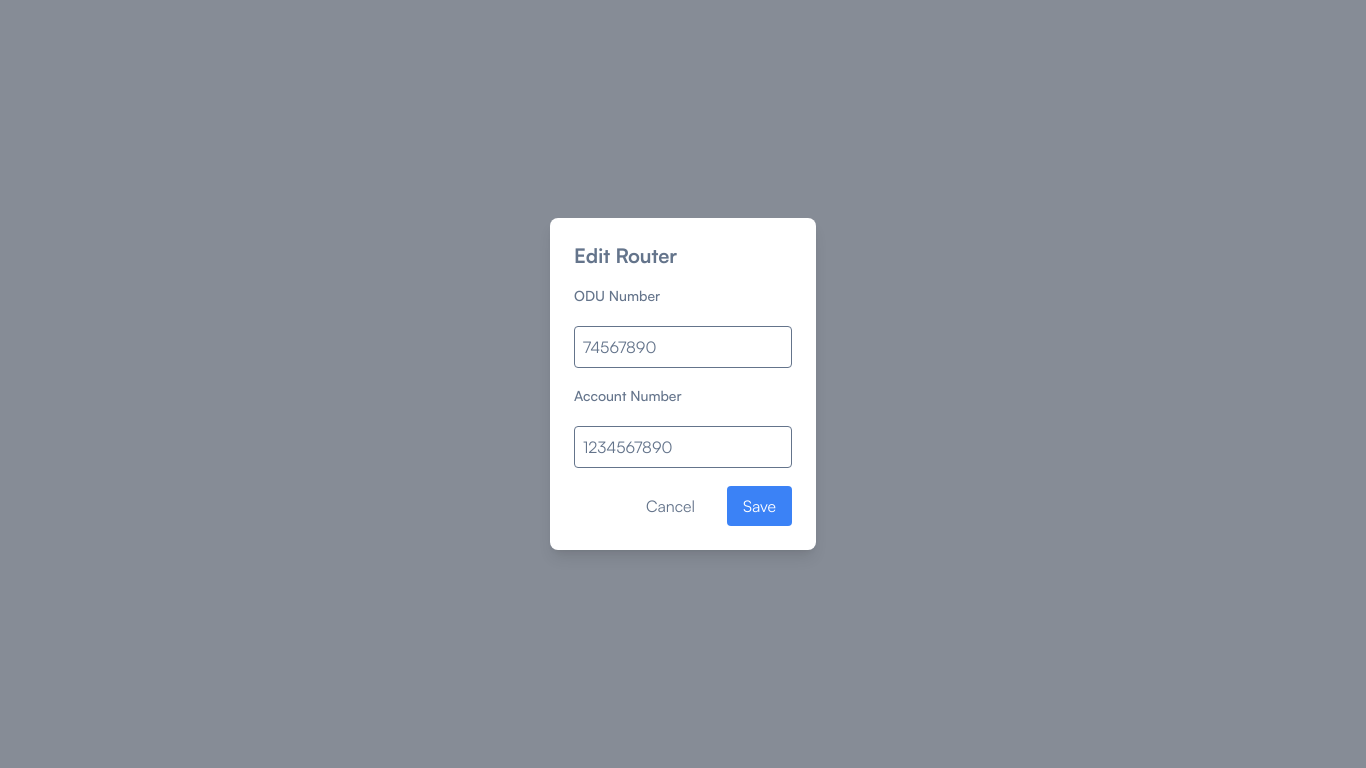
Scenario: EditRouterModal › displays validation errors for invalid data
Clear the field labelled "ODU Number" at point(683, 347), box top-left (574, 326), bottom-right (792, 368)
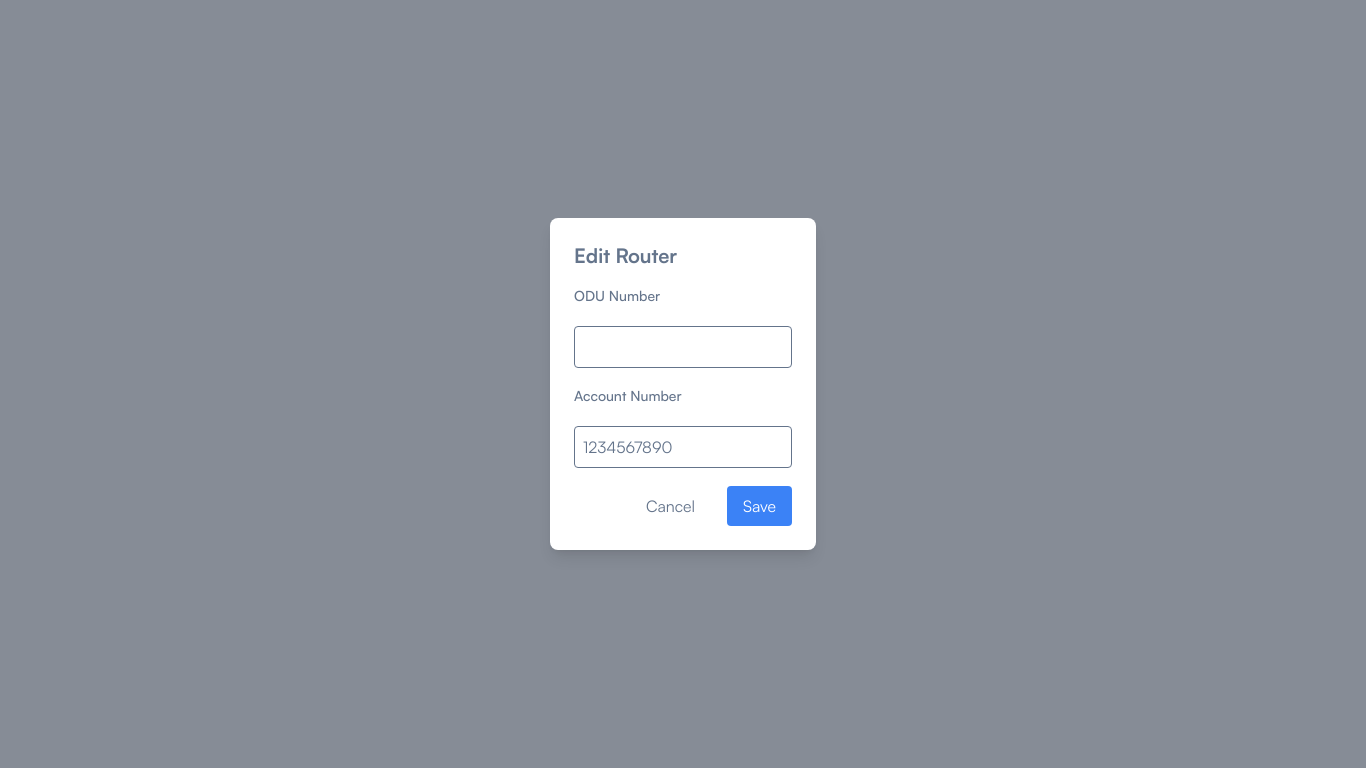
Clear the field labelled "Account Number" at point(683, 447), box top-left (574, 426), bottom-right (792, 468)
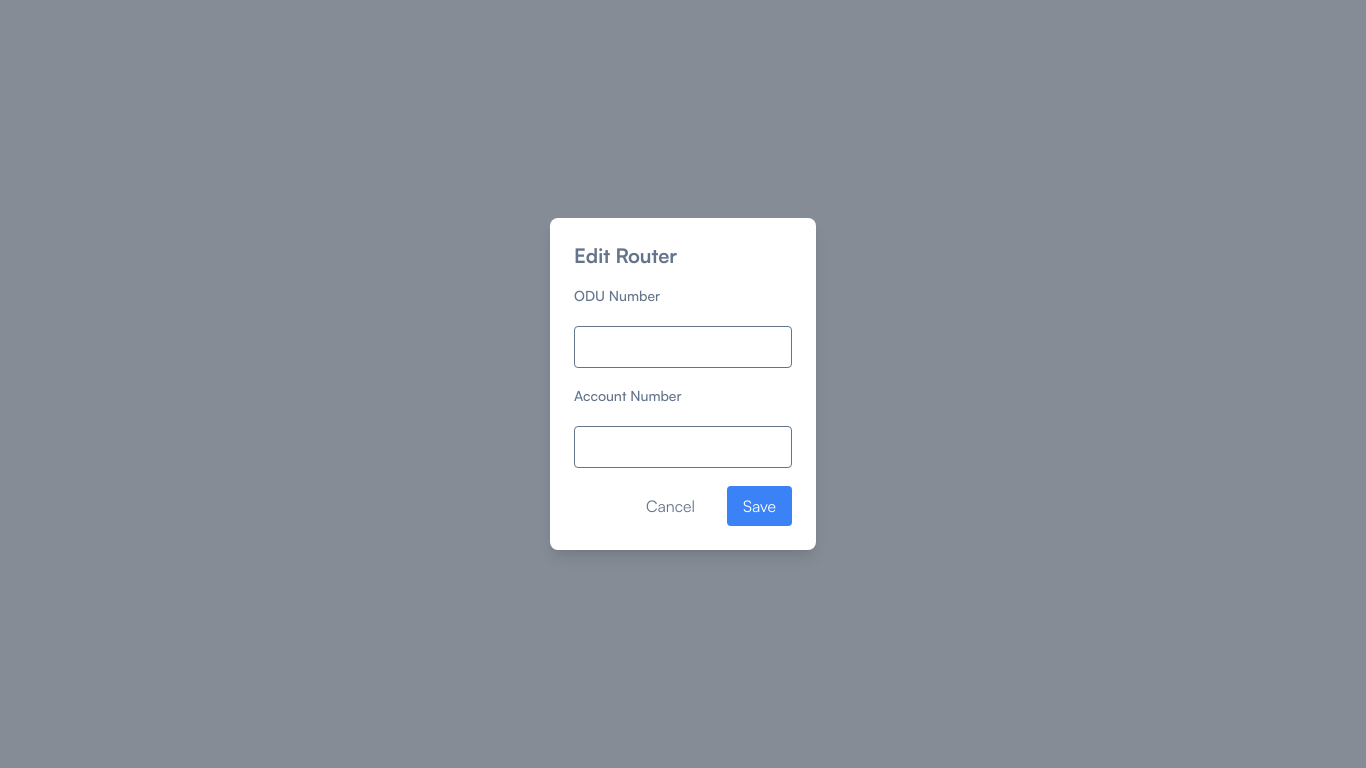
Click the button "Save" at point(760, 506), box top-left (727, 486), bottom-right (792, 526)
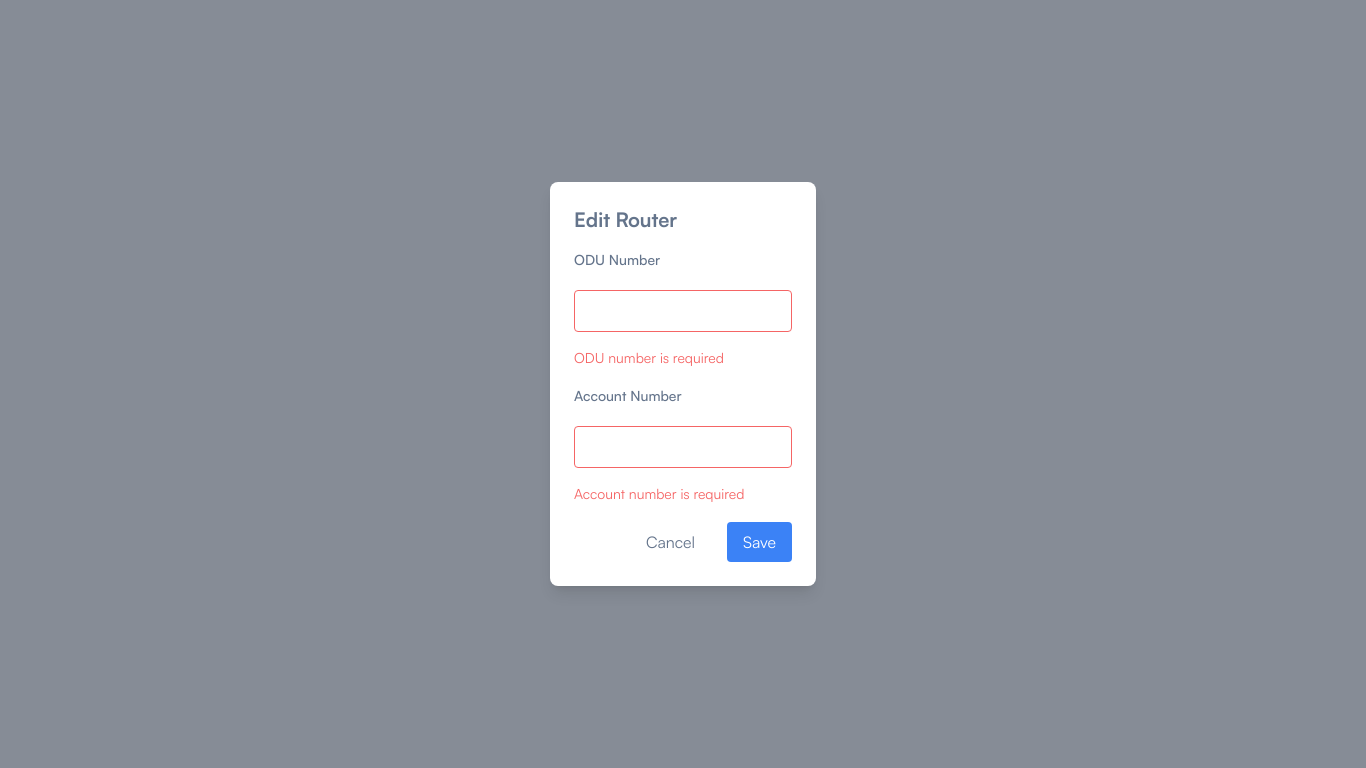
Now the text "ODU number is required" is shown, box top-left (574, 349), bottom-right (724, 366)
Now the text "Account number is required" is shown, box top-left (574, 485), bottom-right (744, 502)
